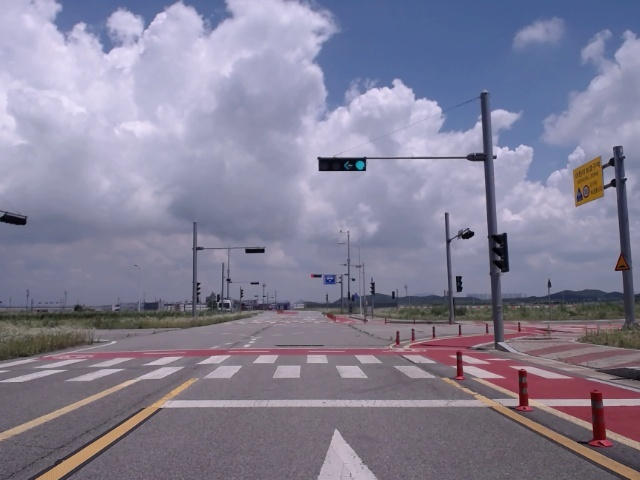all_green_4: (319, 155, 369, 172)
